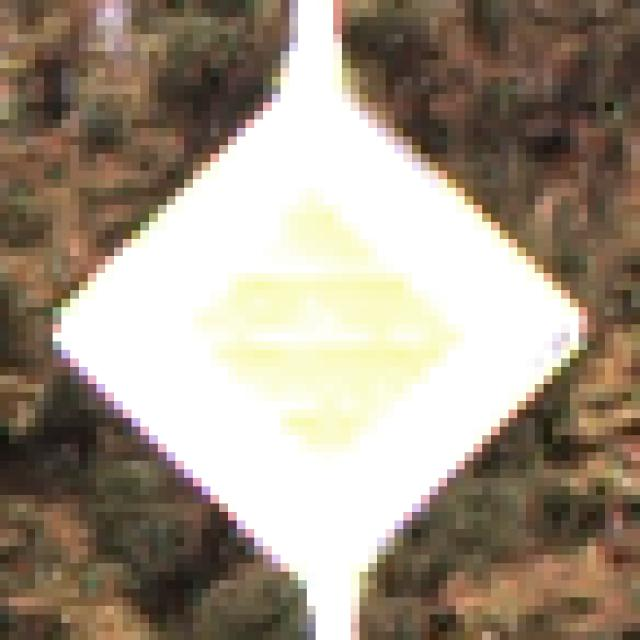Main Road: (54, 52, 589, 581)
